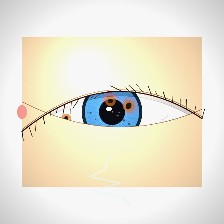foreign_body_visible: (111, 92, 146, 120)
